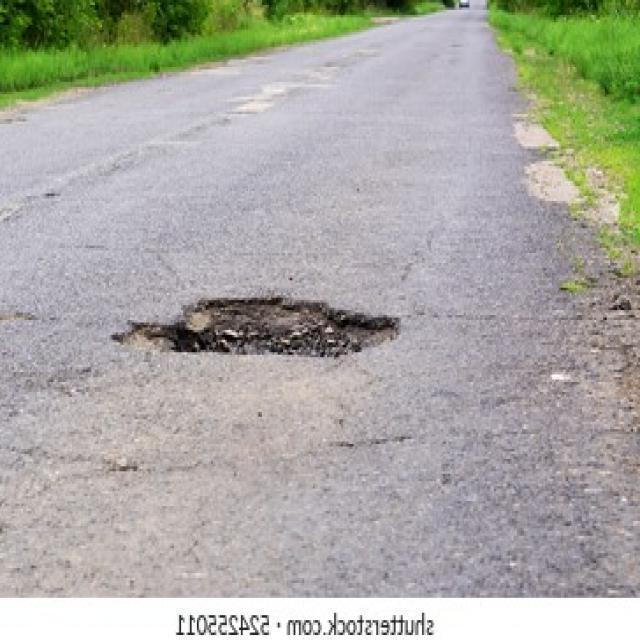pothole: (109, 295, 403, 362)
